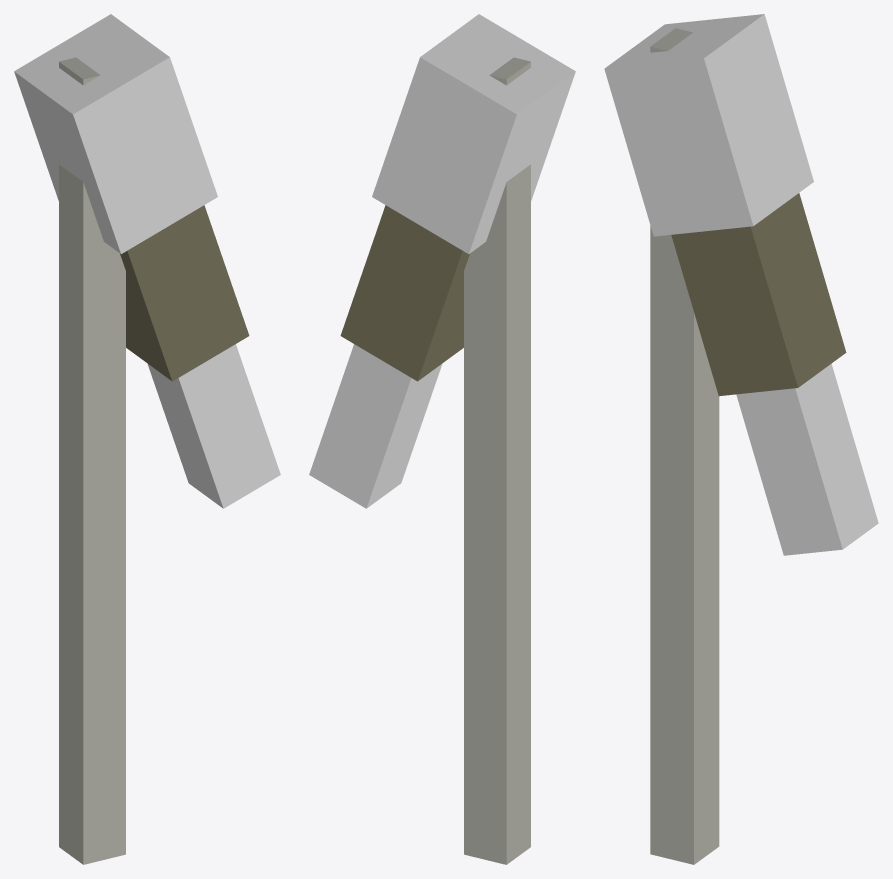
Rendered from SM_MangaViento_v2_Caida_LOD1.fbx.
3 renders of one model, left to right at view 1: azimuth 30°, elevation 25°; view 2: azimuth 150°, elevation 25°; view 3: azimuth 330°, elevation 25°, orthographic. The views are drawn at different scales.
Parts seen in each view (by area): view 1: SM_ambiente_aerodromo_v2_LOD1; view 2: SM_ambiente_aerodromo_v2_LOD1; view 3: SM_ambiente_aerodromo_v2_LOD1.
Boxes of the visible parts, left/top/right/bottom form: SM_ambiente_aerodromo_v2_LOD1: left=14, top=14, right=280, bottom=864; SM_ambiente_aerodromo_v2_LOD1: left=309, top=14, right=575, bottom=864; SM_ambiente_aerodromo_v2_LOD1: left=604, top=14, right=878, bottom=864.
Size of the model in its own units: 1.76 by 6.14 by 0.8167.
